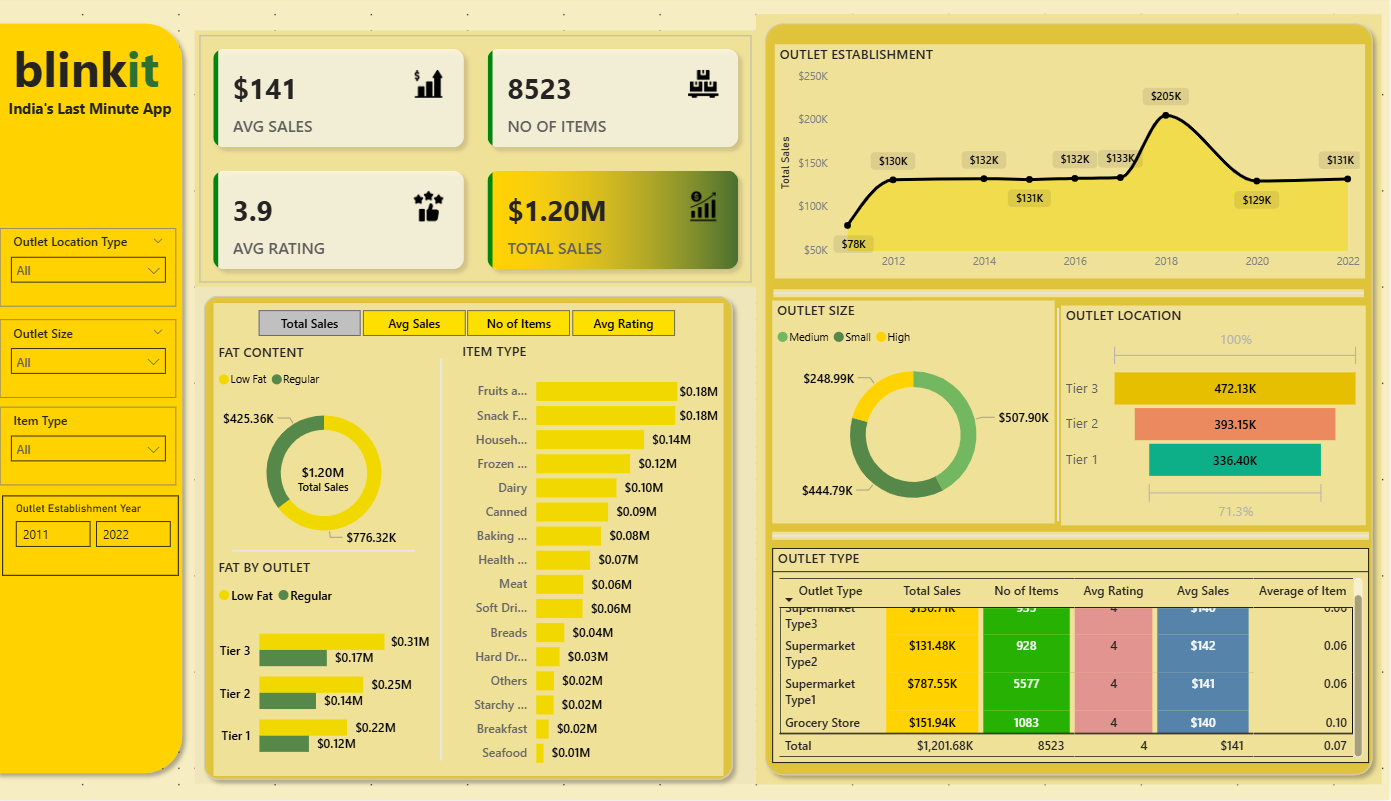

This screenshot's page, from the dashboard's own definition file:
{"tool":"powerbi","page":{"name":"Home","canvas":[1400,800],"ordinal":0},"visuals":[{"type":"shape","box":[0,16,204.7,765.9],"z":0,"group":"g1"},{"type":"cardVisual","fields":{"Data":["BlinkIT Grocery Data.Avg Sales","BlinkIT Grocery Data.No of Items","BlinkIT Grocery Data.Avg Rating","BlinkIT Grocery Data.Total Sales"]},"box":[208,32,560,256],"z":0},{"type":"textbox","box":[23,32.8,171,78.6],"z":1000,"group":"g1"},{"type":"textbox","box":[49.2,196.7,203.3,55.8],"z":1000},{"type":"group","id":"g1","title":"Group 1","box":[0,16,208,768],"z":2000},{"type":"textbox","box":[18,95.1,182,32.7],"z":2000,"group":"g1"},{"type":"group","id":"g2","title":"Group 2","box":[768,16,608,768],"z":3000},{"type":"group","id":"g3","title":"Group 4","box":[208,288,560,496],"z":4000},{"type":"shape","box":[208,288,545.3,500.5],"z":4000,"group":"g3"},{"type":"donutChart","title":"FAT CONTENT","fields":{"Y":["BlinkIT Grocery Data.Total Sales"],"Category":["BlinkIT Grocery Data.Item Fat Content"]},"box":[227.2,344,220.7,214.3],"z":5000,"group":"g4"},{"type":"slicer","fields":{"Values":["BlinkIT Grocery Data.Outlet Establishment Year"]},"box":[16,496,176,80],"z":5000},{"type":"slicer","fields":{"Values":["Metrics.Metrics"]},"box":[246.4,304,465.3,40],"z":6000,"group":"g4"},{"type":"cardVisual","fields":{"Data":["BlinkIT Grocery Data.Total Sales"]},"box":[289.6,446.3,94.3,56],"z":7000,"group":"g4"},{"type":"clusteredBarChart","title":"FAT BY OUTLET","fields":{"Y":["BlinkIT Grocery Data.Total Sales"],"Category":["BlinkIT Grocery Data.Outlet Location Type"],"Series":["BlinkIT Grocery Data.Item Fat Content"]},"box":[227.2,558.3,220.7,217.5],"z":8000,"group":"g4"},{"type":"shape","box":[246.4,535.9,182.3,30.4],"z":9000,"group":"g4"},{"type":"shape","box":[447.9,358.4,12.8,401.4],"z":10000,"group":"g4"},{"type":"barChart","title":"ITEM TYPE","fields":{"Y":["BlinkIT Grocery Data.Total Sales"],"Category":["BlinkIT Grocery Data.Item Type"]},"box":[470.3,342.4,265.5,435],"z":11000,"group":"g4"},{"type":"shape","box":[768,16,624,768],"z":12000,"group":"g2"},{"type":"lineChart","title":"OUTLET ESTABLISHMENT","fields":{"Y":["BlinkIT Grocery Data.Total Sales"],"Category":["BlinkIT Grocery Data.Outlet Establishment Year"]},"box":[787.3,46,588.6,233.3],"z":13000,"group":"g2"},{"type":"shape","box":[785.7,290.4,588.6,7.9],"z":14000,"group":"g2"},{"type":"donutChart","title":"OUTLET SIZE","fields":{"Y":["BlinkIT Grocery Data.Total Sales"],"Category":["BlinkIT Grocery Data.Outlet Size"]},"box":[784.1,301.7,281.6,222.4],"z":15000,"group":"g2"},{"type":"shape","box":[1057.5,309.5,24.1,212.7],"z":16000,"group":"g2"},{"type":"funnel","title":"OUTLET LOCATION","fields":{"Category":["BlinkIT Grocery Data.Outlet Location Type"],"Y":["Sum(BlinkIT Grocery Data.Sales)"]},"box":[1072,306,304,219.4],"z":17000,"group":"g2"},{"type":"shape","box":[784.1,532,595.4,7.9],"z":18000,"group":"g2"},{"type":"tableEx","title":"OUTLET TYPE","fields":{"Values":["BlinkIT Grocery Data.Outlet Type","BlinkIT Grocery Data.Total Sales","BlinkIT Grocery Data.No of Items","BlinkIT Grocery Data.Avg Rating","BlinkIT Grocery Data.Avg Sales","Avg(BlinkIT Grocery Data.Item Visibility)"]},"box":[784.1,547.9,595.4,214.4],"z":19000,"group":"g2"},{"type":"slicer","fields":{"Values":["BlinkIT Grocery Data.Outlet Location Type"]},"box":[14,229.2,176.2,78.5],"z":20000,"group":"g1"},{"type":"slicer","fields":{"Values":["BlinkIT Grocery Data.Outlet Size"]},"box":[14,319.7,176,78.6],"z":21000,"group":"g1"},{"type":"group","id":"g4","title":"Group 3","box":[227.2,304,508.5,473.3],"z":21002,"group":"g3"},{"type":"slicer","fields":{"Values":["BlinkIT Grocery Data.Item Type"]},"box":[14,407.6,176,78.6],"z":22000,"group":"g1"}]}

Visuals, with their boxes in screenshot pixels (x1, y1, x2, y2), scaled from the page's 1400x800 canvas onto the 1391x801 screenshot:
shape: 0 16 203 783
cardVisual - BlinkIT Grocery Data.Avg Sales x BlinkIT Grocery Data.No of Items: 207 32 763 288
textbox: 23 33 193 112
textbox: 49 197 251 253
"Group 1" group: 0 16 207 785
textbox: 18 95 199 128
"Group 2" group: 763 16 1367 785
"Group 4" group: 207 288 763 785
shape: 207 288 748 789
"FAT CONTENT" donutChart: 226 344 445 559
slicer - BlinkIT Grocery Data.Outlet Establishment Year: 16 497 191 577
slicer - Metrics.Metrics: 245 304 707 344
cardVisual - BlinkIT Grocery Data.Total Sales: 288 447 381 503
"FAT BY OUTLET" clusteredBarChart: 226 559 445 777
shape: 245 537 426 567
shape: 445 359 458 761
"ITEM TYPE" barChart: 467 343 731 778
shape: 763 16 1383 785
"OUTLET ESTABLISHMENT" lineChart: 782 46 1367 280
shape: 781 291 1365 299
"OUTLET SIZE" donutChart: 779 302 1059 525
shape: 1051 310 1075 523
"OUTLET LOCATION" funnel: 1065 306 1367 526
shape: 779 533 1371 541
"OUTLET TYPE" tableEx: 779 549 1371 763
slicer - BlinkIT Grocery Data.Outlet Location Type: 14 229 189 308
slicer - BlinkIT Grocery Data.Outlet Size: 14 320 189 399
"Group 3" group: 226 304 731 778
slicer - BlinkIT Grocery Data.Item Type: 14 408 189 487
